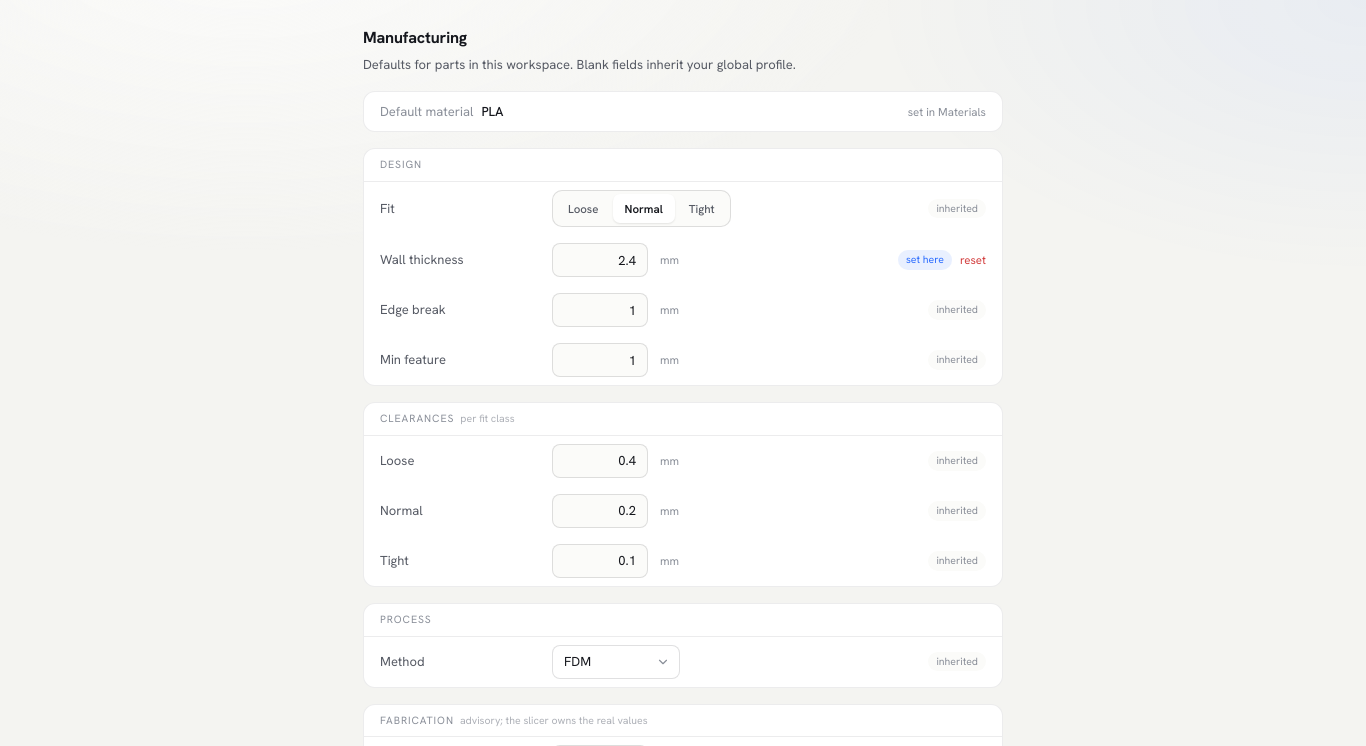
Test: ManufacturingProfile › clearing a field skips the write and snaps back to the prior value
Clear the field labelled "Wall thickness" at [600, 260], box [552, 243, 648, 277]
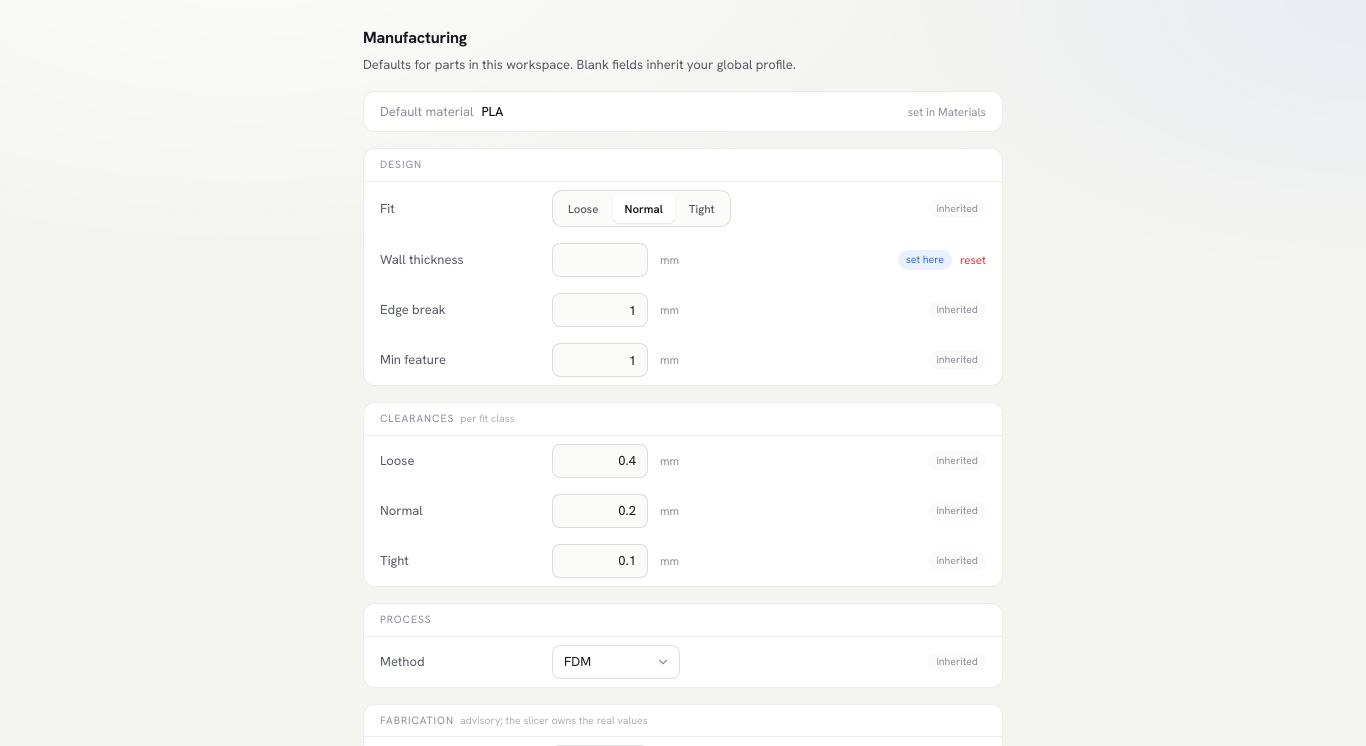
Leave the field labelled "Wall thickness", box [552, 243, 648, 277]
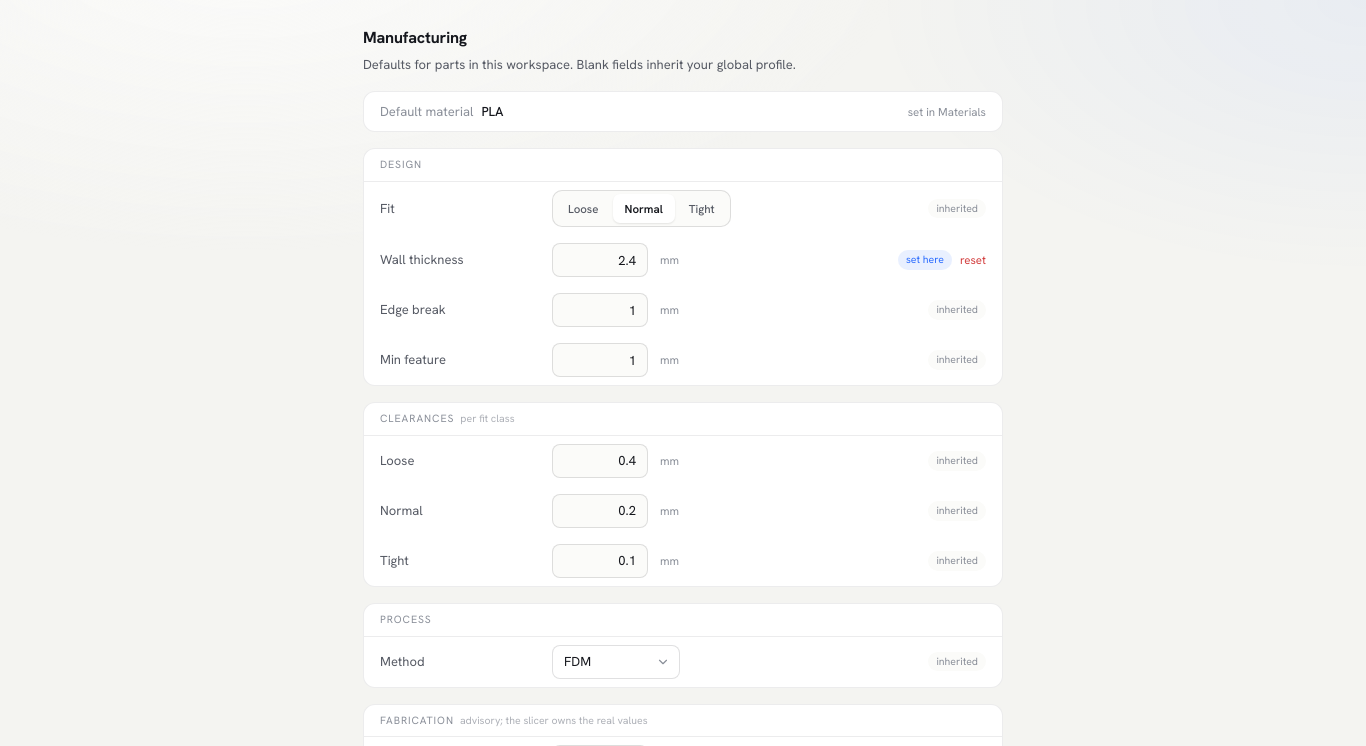
Check: the field labelled "Wall thickness" holds "2.4", box [552, 243, 648, 277]
